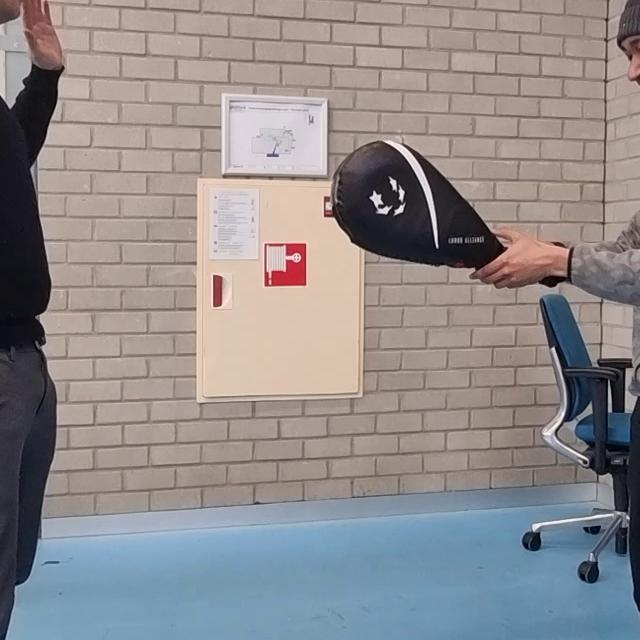paddle: (332, 141, 508, 269)
